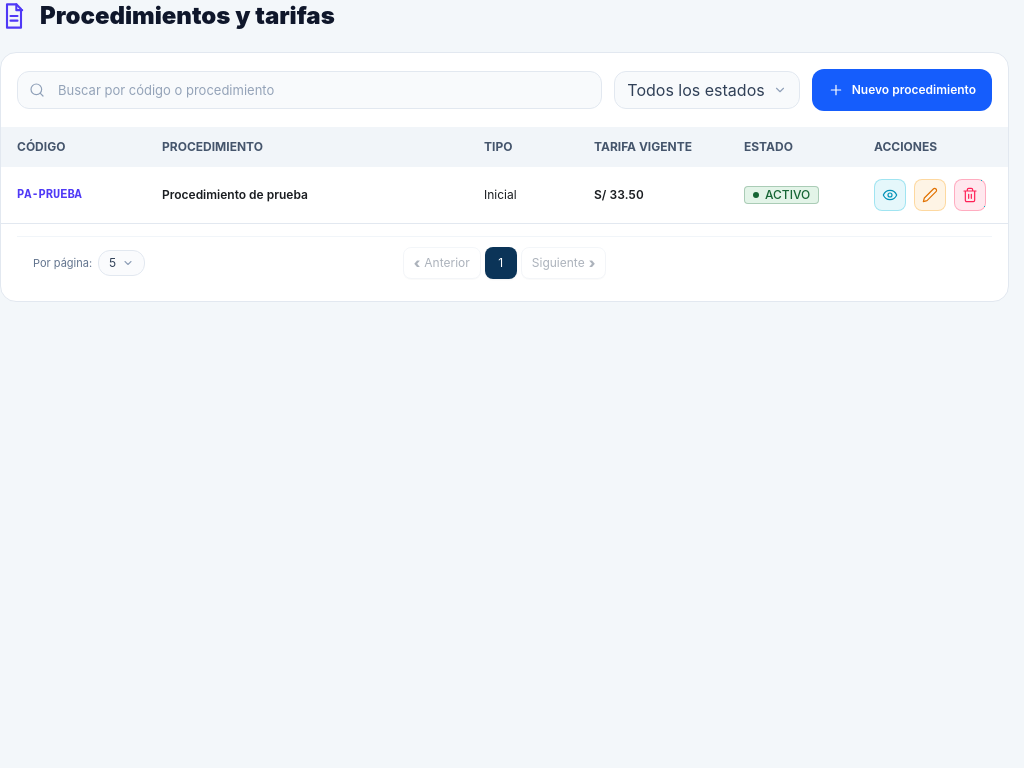
it: edita con PUT y conserva el valor de la tarifa cargada
Click the button named "Editar PA-PRUEBA" at (930,195), box [914,179,946,211]
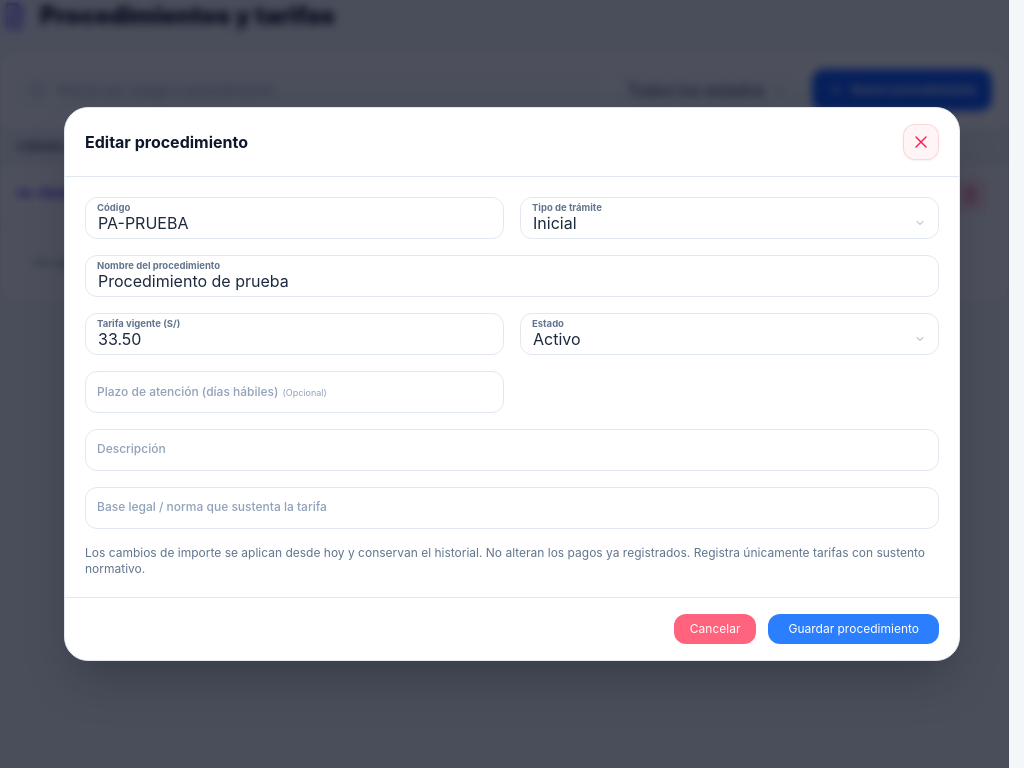
Check: the field labelled "Código" holds "PA-PRUEBA", box [85,197,504,239]
Check: the number field labelled "Tarifa vigente (S/)" holds "33.50", box [85,313,504,355]
Submit the form, box [65,177,959,660]
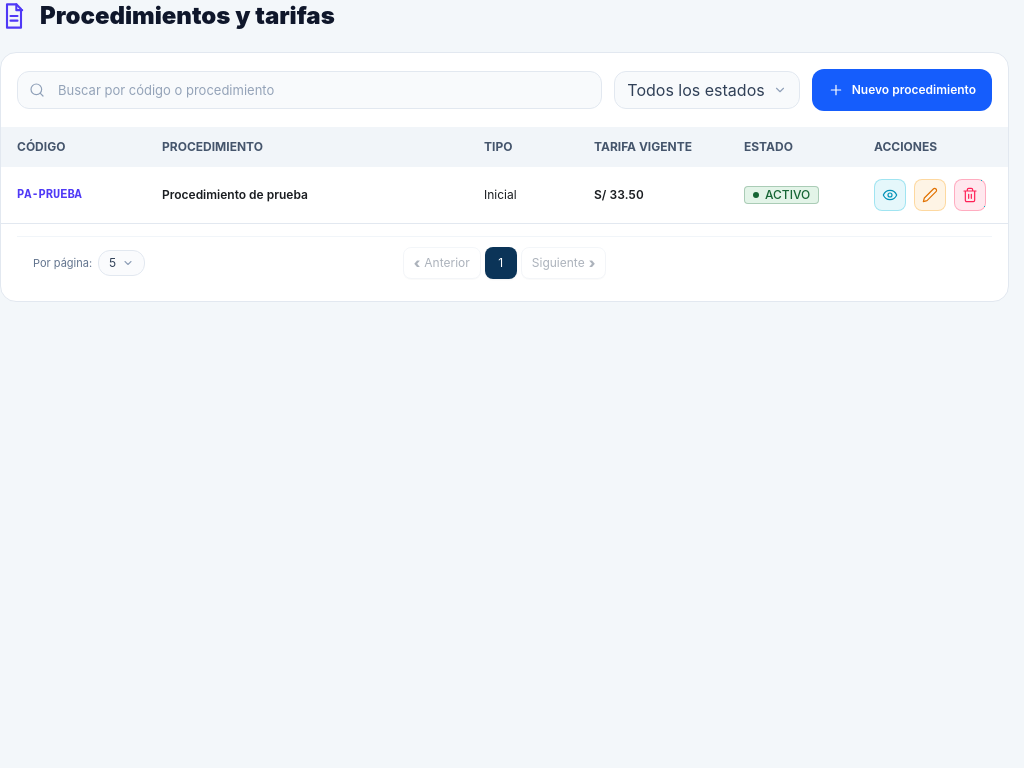
Check: the dialog is gone
